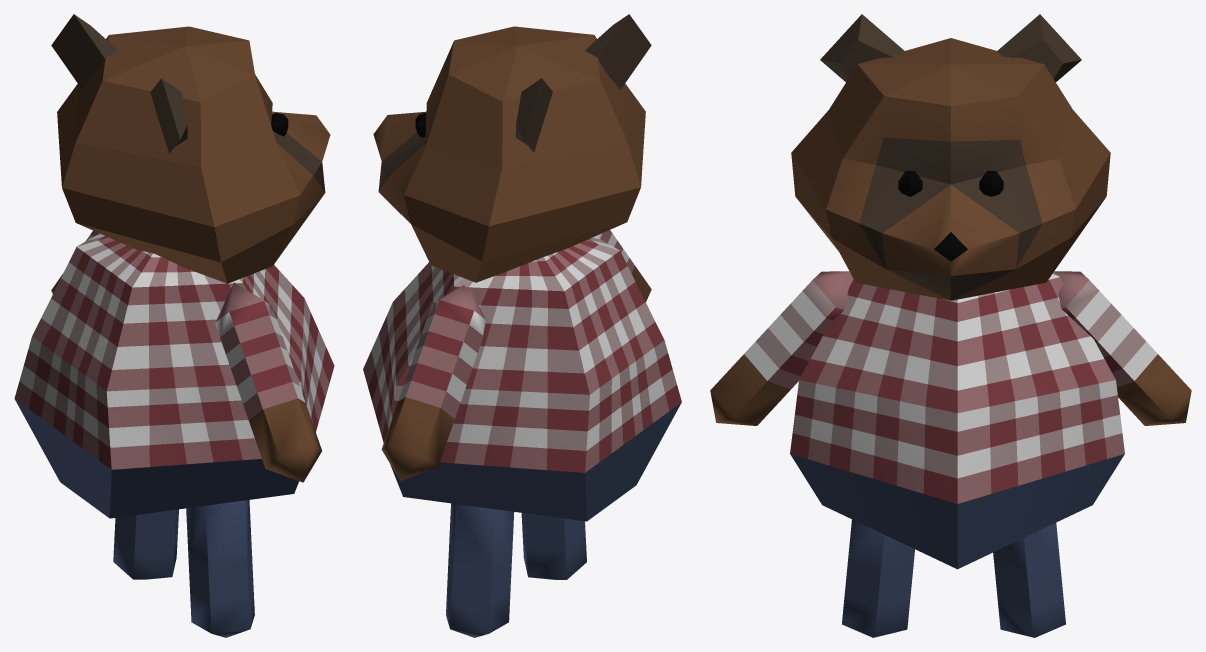
File: bear.fbx
The picture shows the model from 3 angles, left to right: view 1: azimuth 30°, elevation 25°; view 2: azimuth 150°, elevation 25°; view 3: azimuth 270°, elevation 25°; orthographic projection.
Visible parts, largest first — view 1: body, head, polySurface2, pasted__LegRight, ears, pasted__LegLeft; view 2: body, head, polySurface3, pasted__LegLeft, ears, pasted__LegRight, polySurface2; view 3: body, head, polySurface2, polySurface3, pasted__LegRight, pasted__LegLeft, ears, eyes1.
Boxes of the visible parts, box(x1,y1,x2,y2) form: body: box(14, 233, 334, 518); head: box(57, 26, 330, 283); polySurface2: box(215, 282, 321, 482); pasted__LegRight: box(186, 500, 254, 637); ears: box(51, 14, 187, 153); pasted__LegLeft: box(113, 509, 178, 579); body: box(363, 236, 681, 521); head: box(373, 26, 645, 282); polySurface3: box(381, 285, 485, 480); pasted__LegLeft: box(446, 503, 514, 637); ears: box(515, 14, 651, 152); pasted__LegRight: box(521, 513, 586, 579); polySurface2: box(595, 230, 651, 301); body: box(790, 271, 1124, 569); head: box(791, 38, 1110, 300); polySurface2: box(710, 271, 853, 425); polySurface3: box(1054, 271, 1191, 425); pasted__LegRight: box(842, 519, 914, 637); pasted__LegLeft: box(993, 523, 1065, 637); ears: box(820, 14, 1081, 81); eyes1: box(898, 171, 1003, 196).
Size of the model in its own units: 0.6764 by 1.36 by 1.01.
